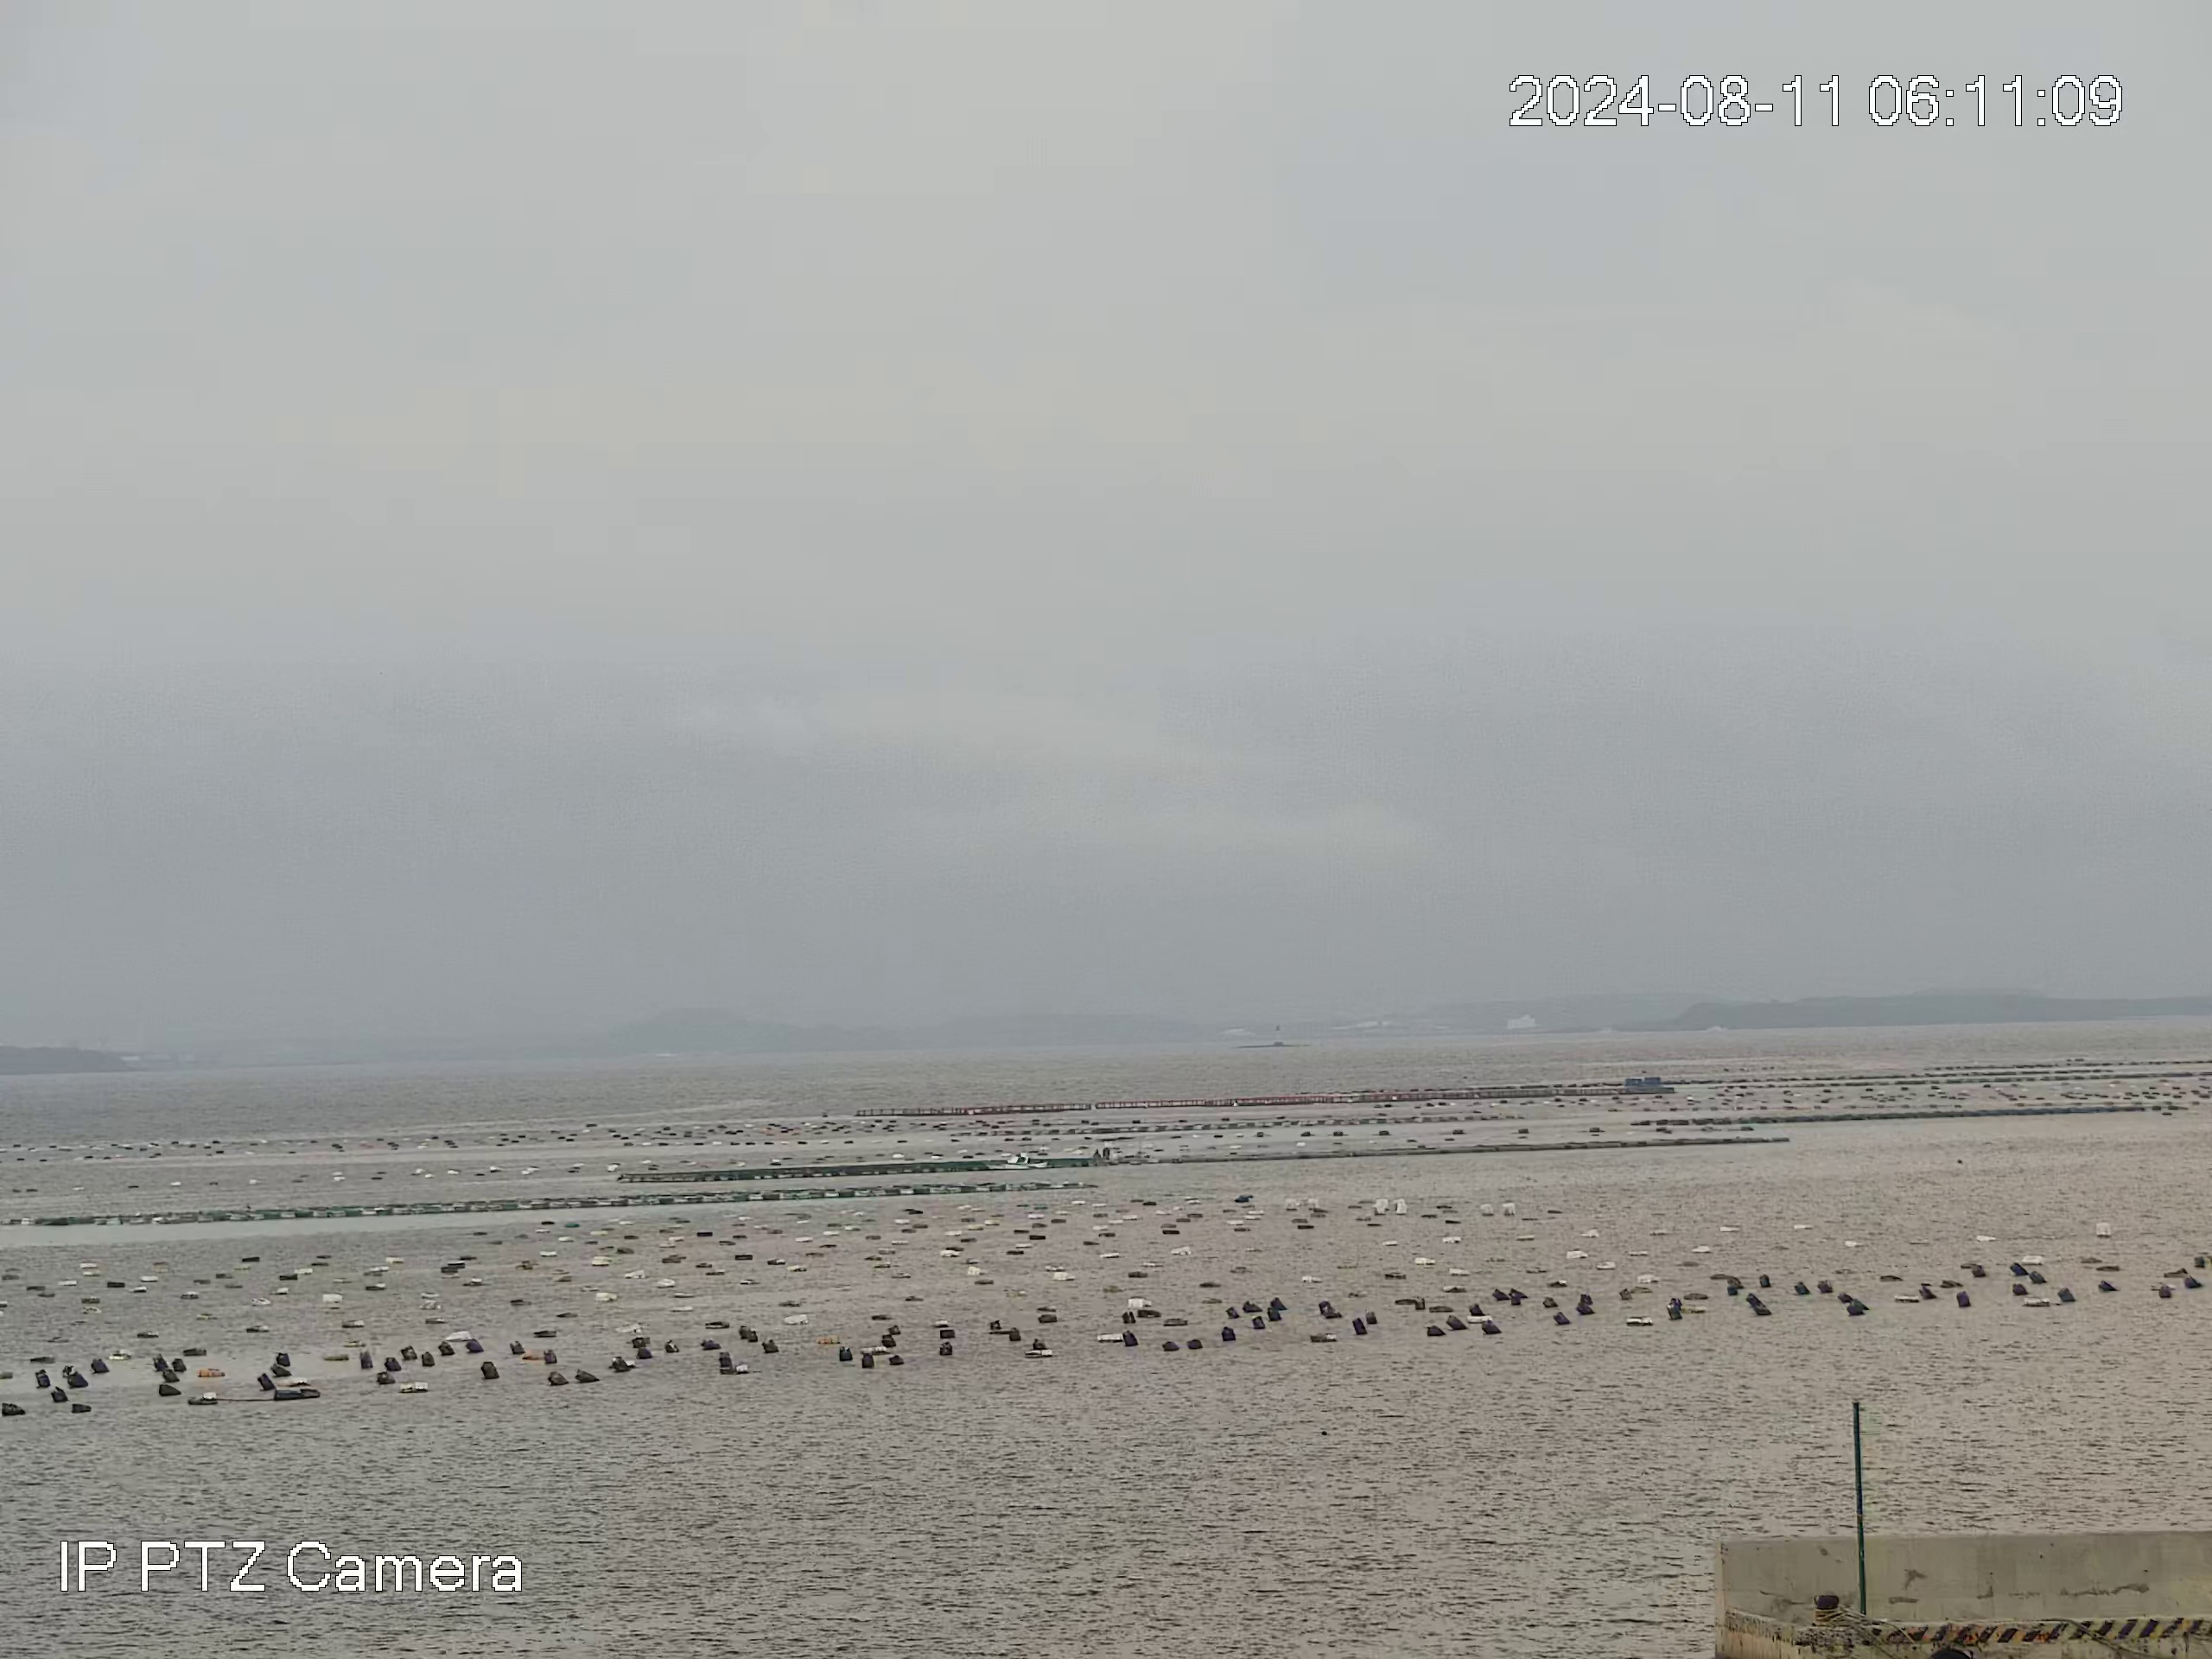boat: (980, 1151, 1049, 1171)
